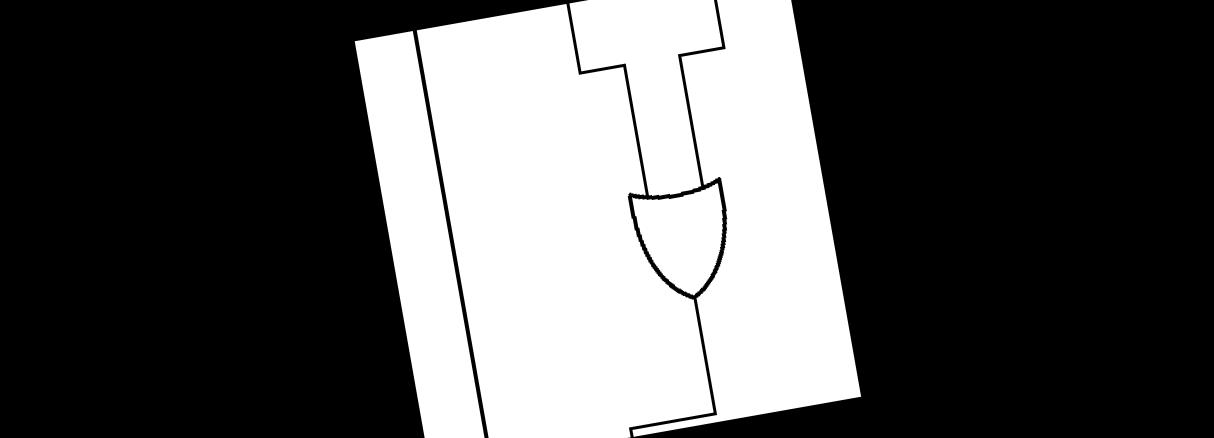or: (618, 168, 749, 320)
